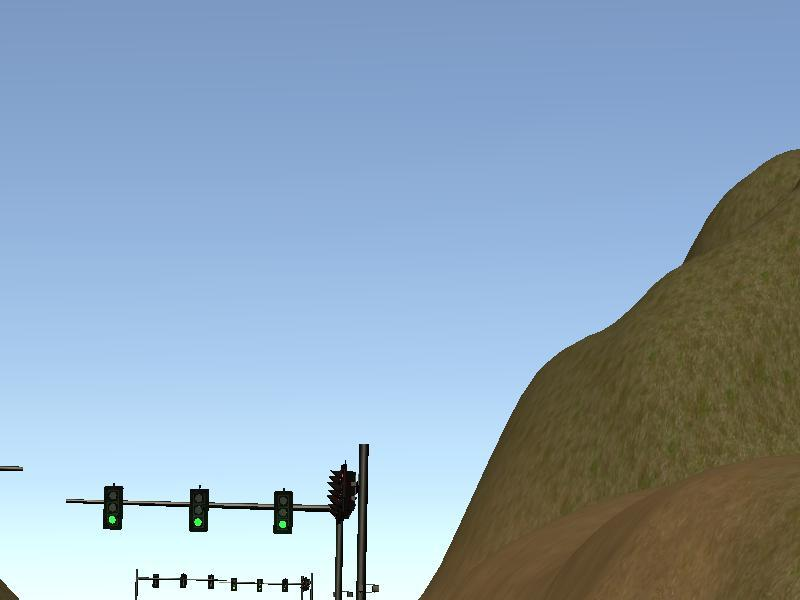Green: (190, 489, 208, 532), (275, 492, 293, 534), (105, 487, 123, 528)
